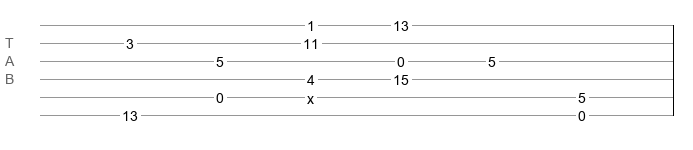0: (216, 90, 224, 100), (397, 54, 405, 64), (578, 108, 586, 118)
1: (307, 18, 315, 28)
11: (303, 36, 319, 46)
13: (122, 108, 138, 118), (393, 18, 409, 28)
15: (393, 72, 409, 82)
3: (126, 36, 134, 46)
4: (307, 72, 315, 82)
5: (216, 54, 224, 64), (488, 54, 496, 64), (578, 90, 586, 100)
x: (307, 91, 314, 99)
